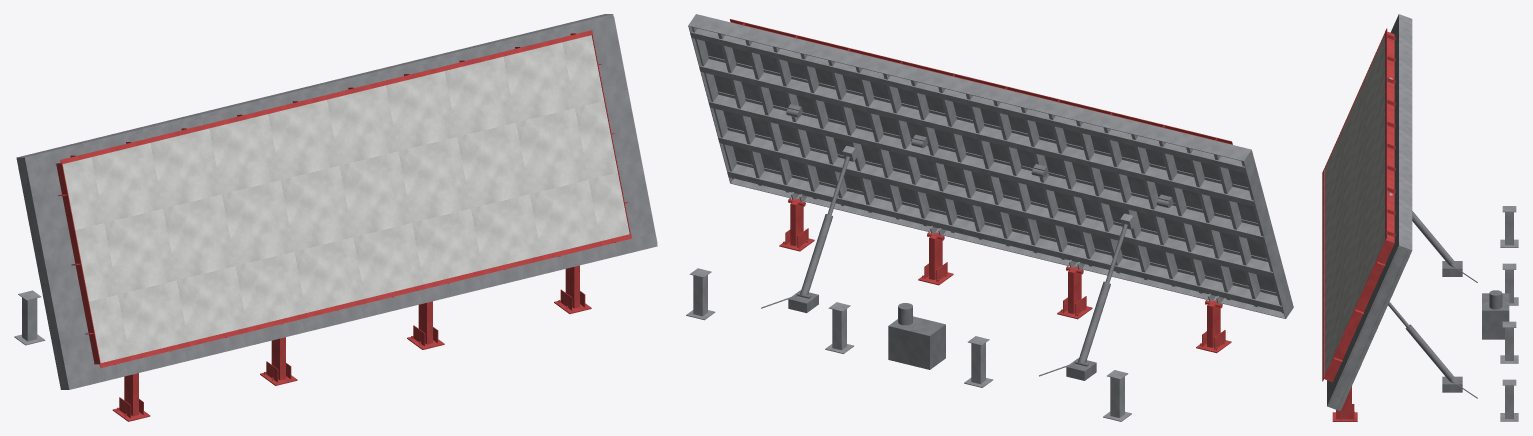
The model's file is retaining-wall-mould.glb.
3 renders of one model, left to right at view 1: azimuth 30°, elevation 25°; view 2: azimuth 150°, elevation 25°; view 3: azimuth 270°, elevation 25°, orthographic. The views are drawn at different scales.
Parts seen in each view (by area): view 1: WallPanel(context), CastingBed, SideForms, RibbedFrame, PivotStands, RestStools; view 2: RibbedFrame, CastingBed, TiltingCylinders, PivotStands, RestStools, SideForms, Vibrators; view 3: WallPanel(context), RibbedFrame, SideForms, TiltingCylinders, CastingBed, RestStools, PivotStands.
Part boxes in pixels (x1,y1,x2,y2): WallPanel(context): [62, 35, 629, 362]; CastingBed: [24, 14, 657, 389]; SideForms: [56, 30, 631, 368]; RibbedFrame: [16, 14, 657, 389]; PivotStands: [112, 265, 591, 421]; RestStools: [14, 290, 45, 345]; RibbedFrame: [688, 14, 1293, 318]; CastingBed: [705, 41, 1293, 307]; TiltingCylinders: [761, 156, 1127, 380]; PivotStands: [779, 198, 1231, 353]; RestStools: [686, 268, 1131, 421]; SideForms: [730, 19, 1232, 144]; Vibrators: [786, 104, 1173, 208]; WallPanel(context): [1324, 34, 1392, 375]; RibbedFrame: [1327, 14, 1412, 411]; SideForms: [1322, 28, 1395, 382]; TiltingCylinders: [1388, 211, 1509, 398]; CastingBed: [1327, 14, 1398, 405]; RestStools: [1500, 206, 1518, 421]; PivotStands: [1332, 386, 1357, 421].
Size of the model in its own units: 12.02 by 4.87 by 4.3.
5 materials, 5 textured.
